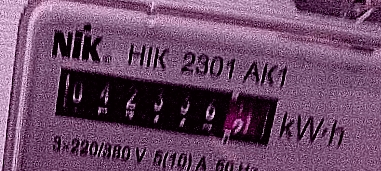0: (69, 76, 85, 106)
2: (121, 82, 141, 110)
3: (148, 84, 166, 114), (177, 87, 193, 116)
4: (95, 79, 113, 107)
6: (202, 95, 219, 123)
screen: (42, 57, 287, 156)
